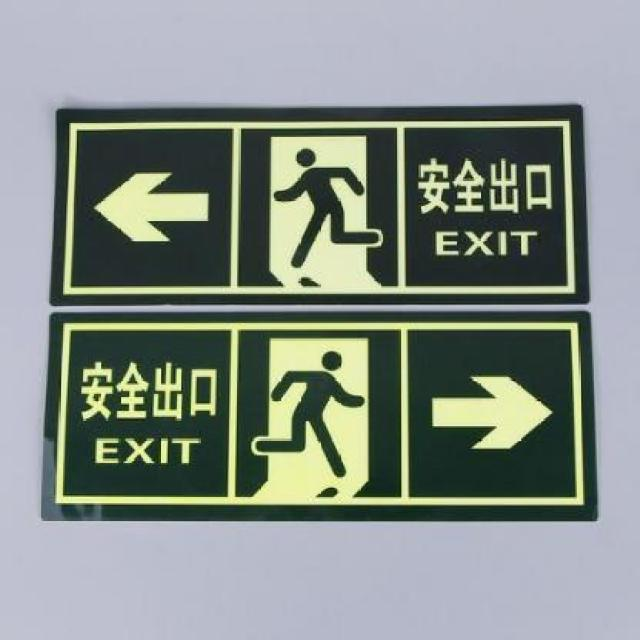exit_sign: (43, 320, 601, 535), (50, 102, 598, 306)
